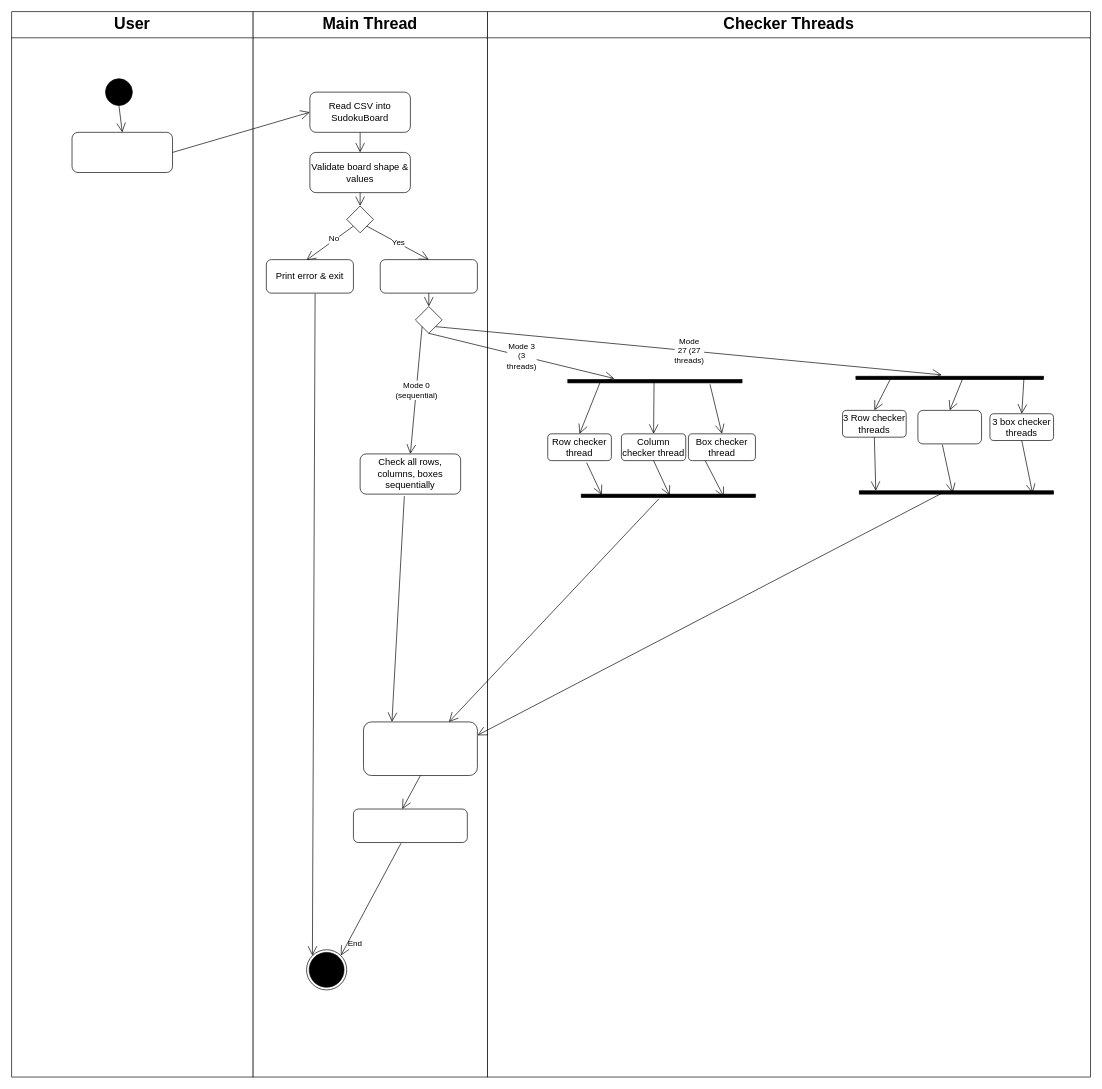
The diagram is 1102 pixels wide and 1089 high, and some of its shapes have lost their labels. The box of each missing label's shape, as (x1, y1, x2, y2) in pixels:
3 Column checker threads: (917, 410, 982, 444)
Collect results from all checkers: (363, 721, 477, 776)
Parse CLI arguments: <CSV path>, <mode>: (71, 132, 173, 173)
Print VALID / INVALID + duplicates: (353, 808, 467, 843)
Select mode (0/3/ 27): (380, 259, 477, 293)
Start: (105, 78, 132, 106)
